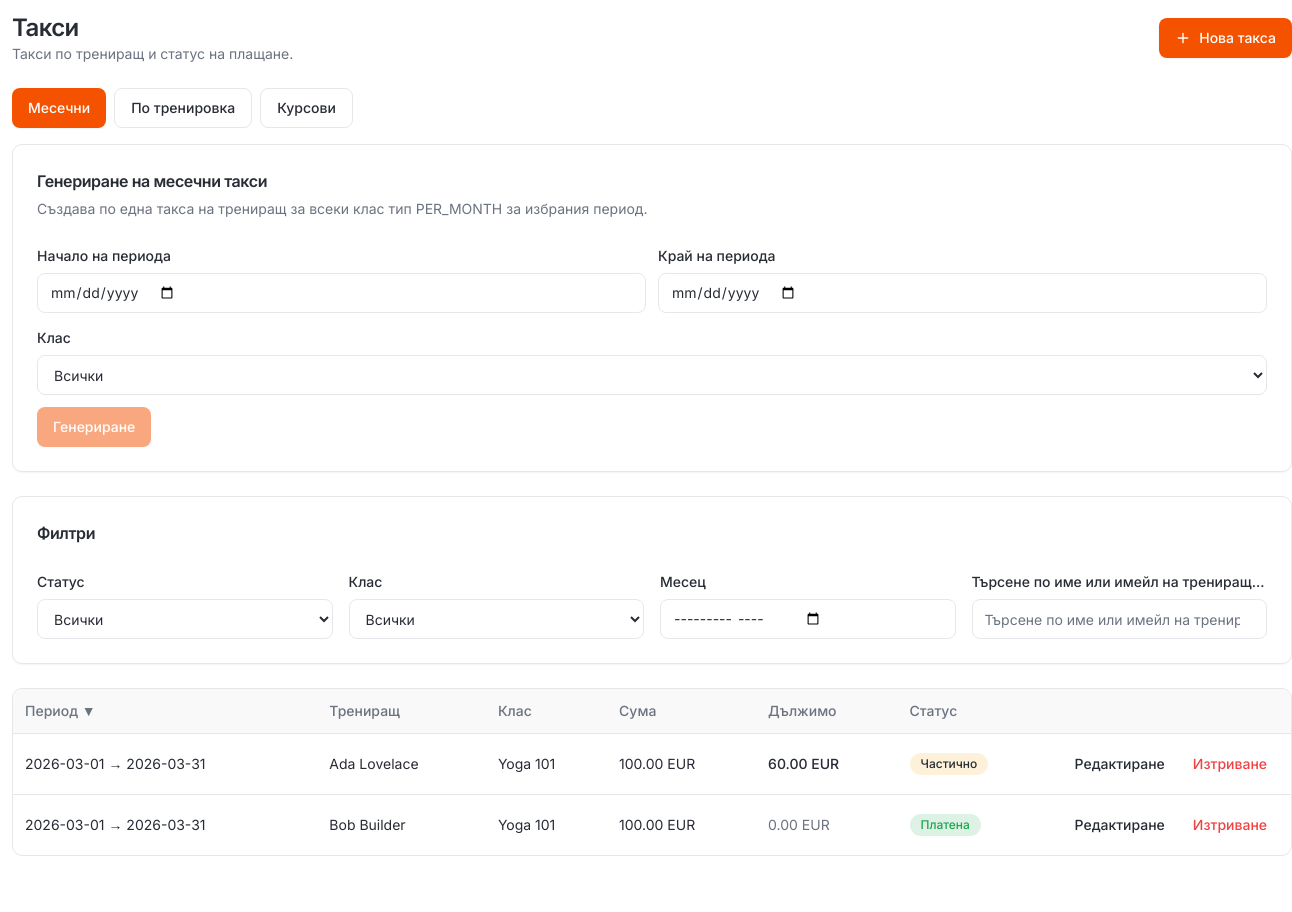
Scenario: FeesListPage › Generate-course form posts the chosen classId to /fees/generate-course
Expected: the text "Ada Lovelace" is shown, [317,734,486,794]
// The course form is behind its tab — hidden by default (monthly shows first).
Click the button "Курсови" at (307, 108), box [260,88,353,128]
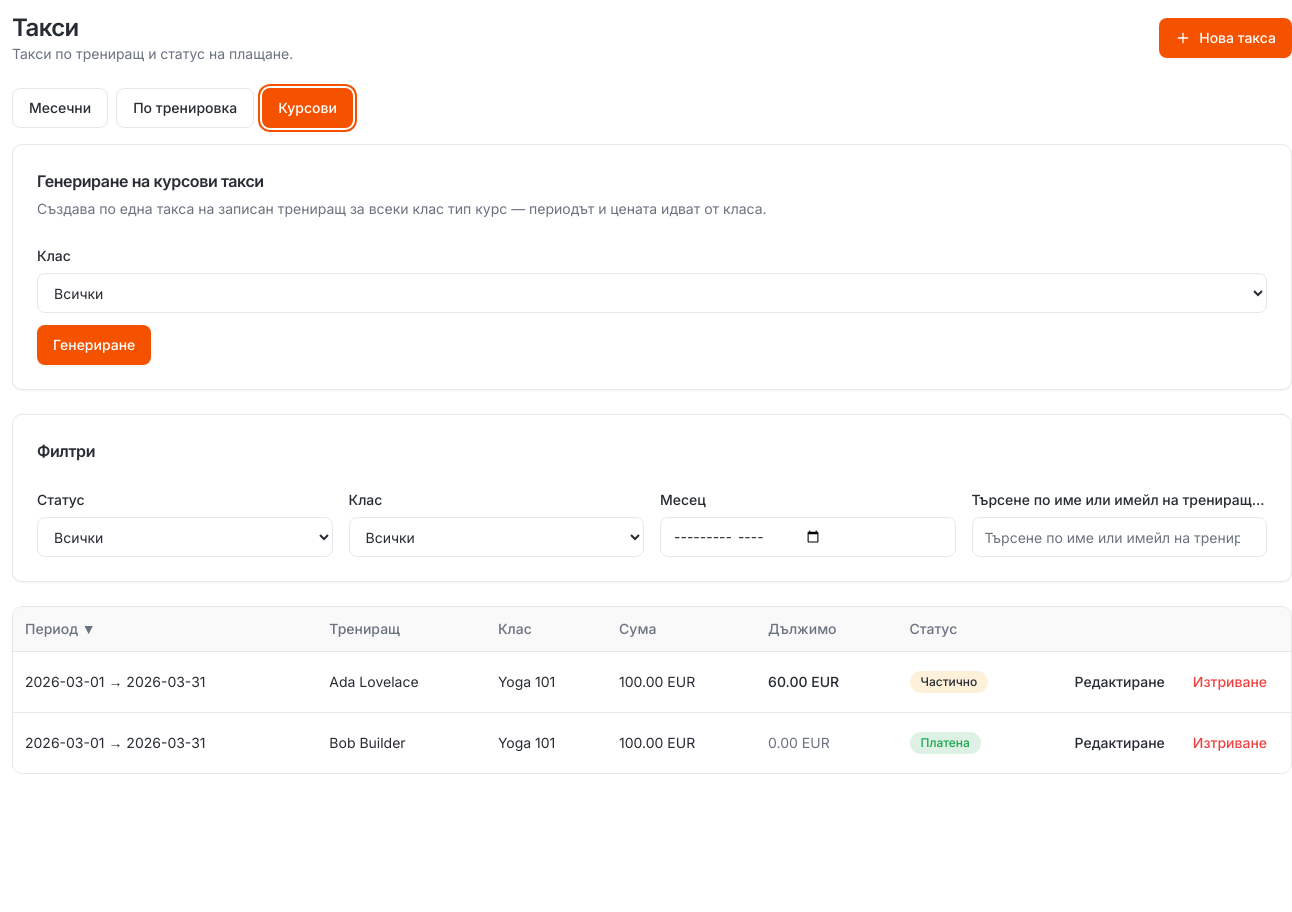
Select "English Spring" in the dropdown labelled "Клас" below "Генериране на курсови такси" at (652, 293), box [37,273,1267,313]
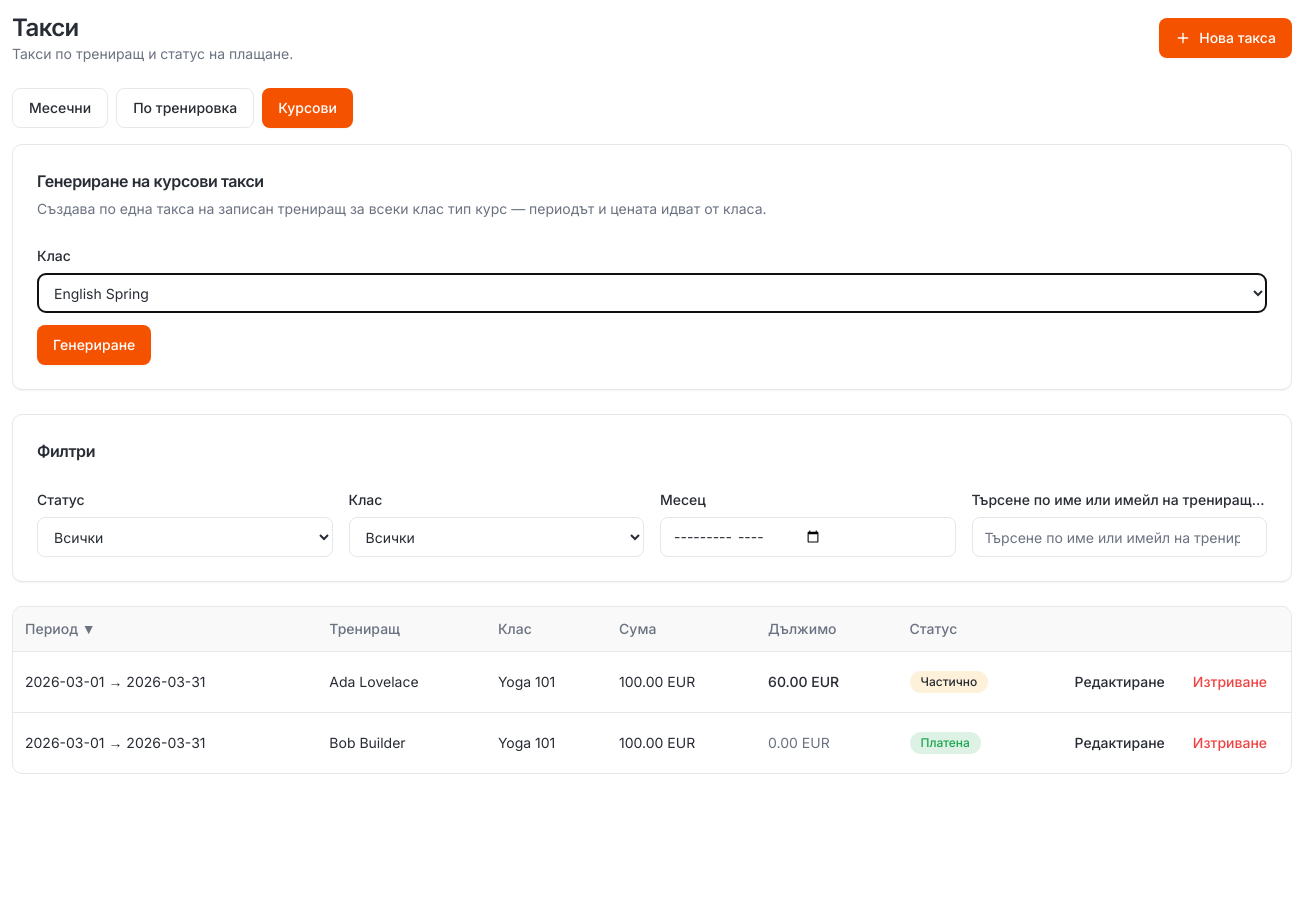
Click the button "Генериране" at (94, 345), box [37,325,151,365]
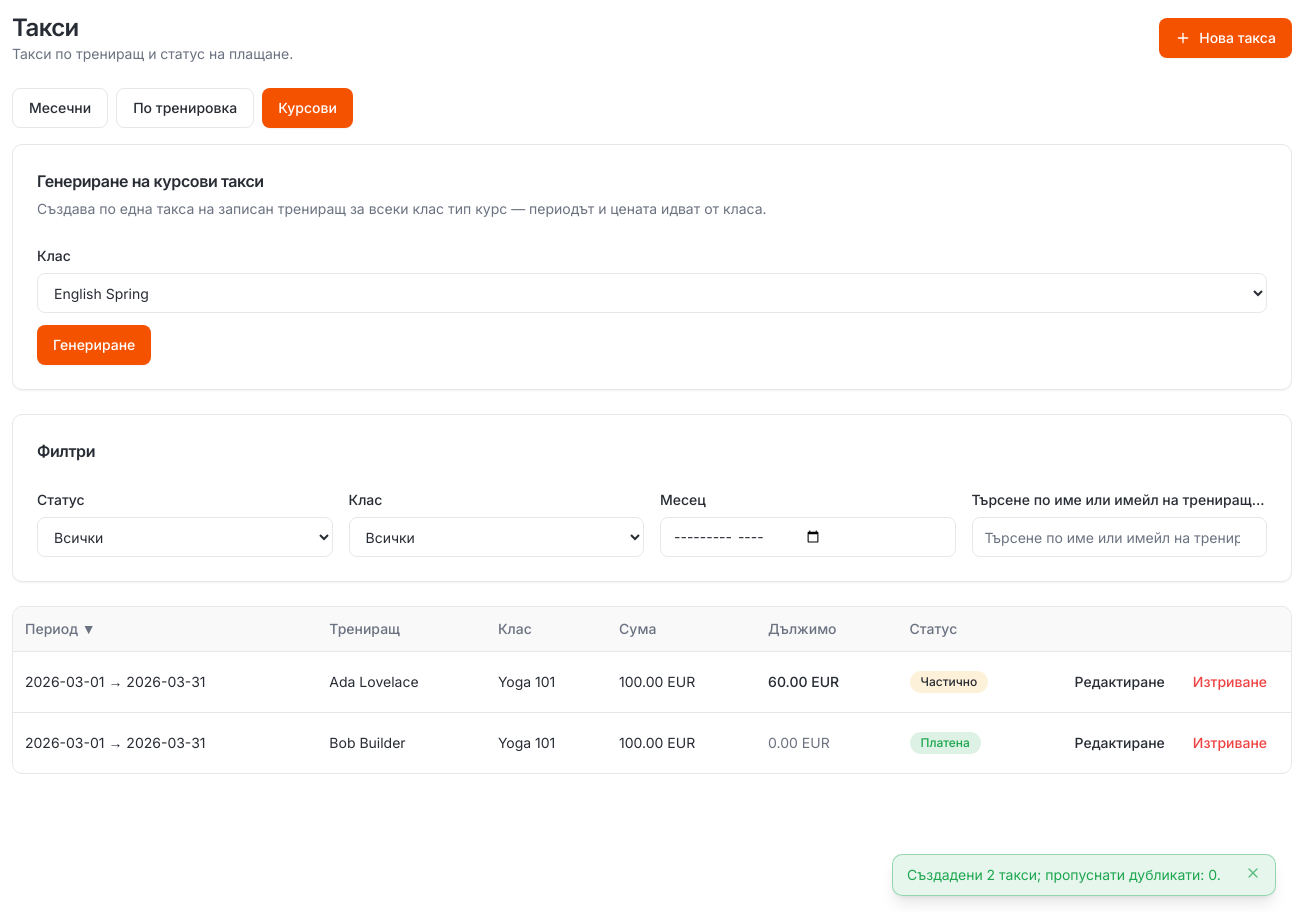
Expected: the text "Създадени 2 такси; пропуснати дубликати: 0." is shown, [907,865,1233,885]
